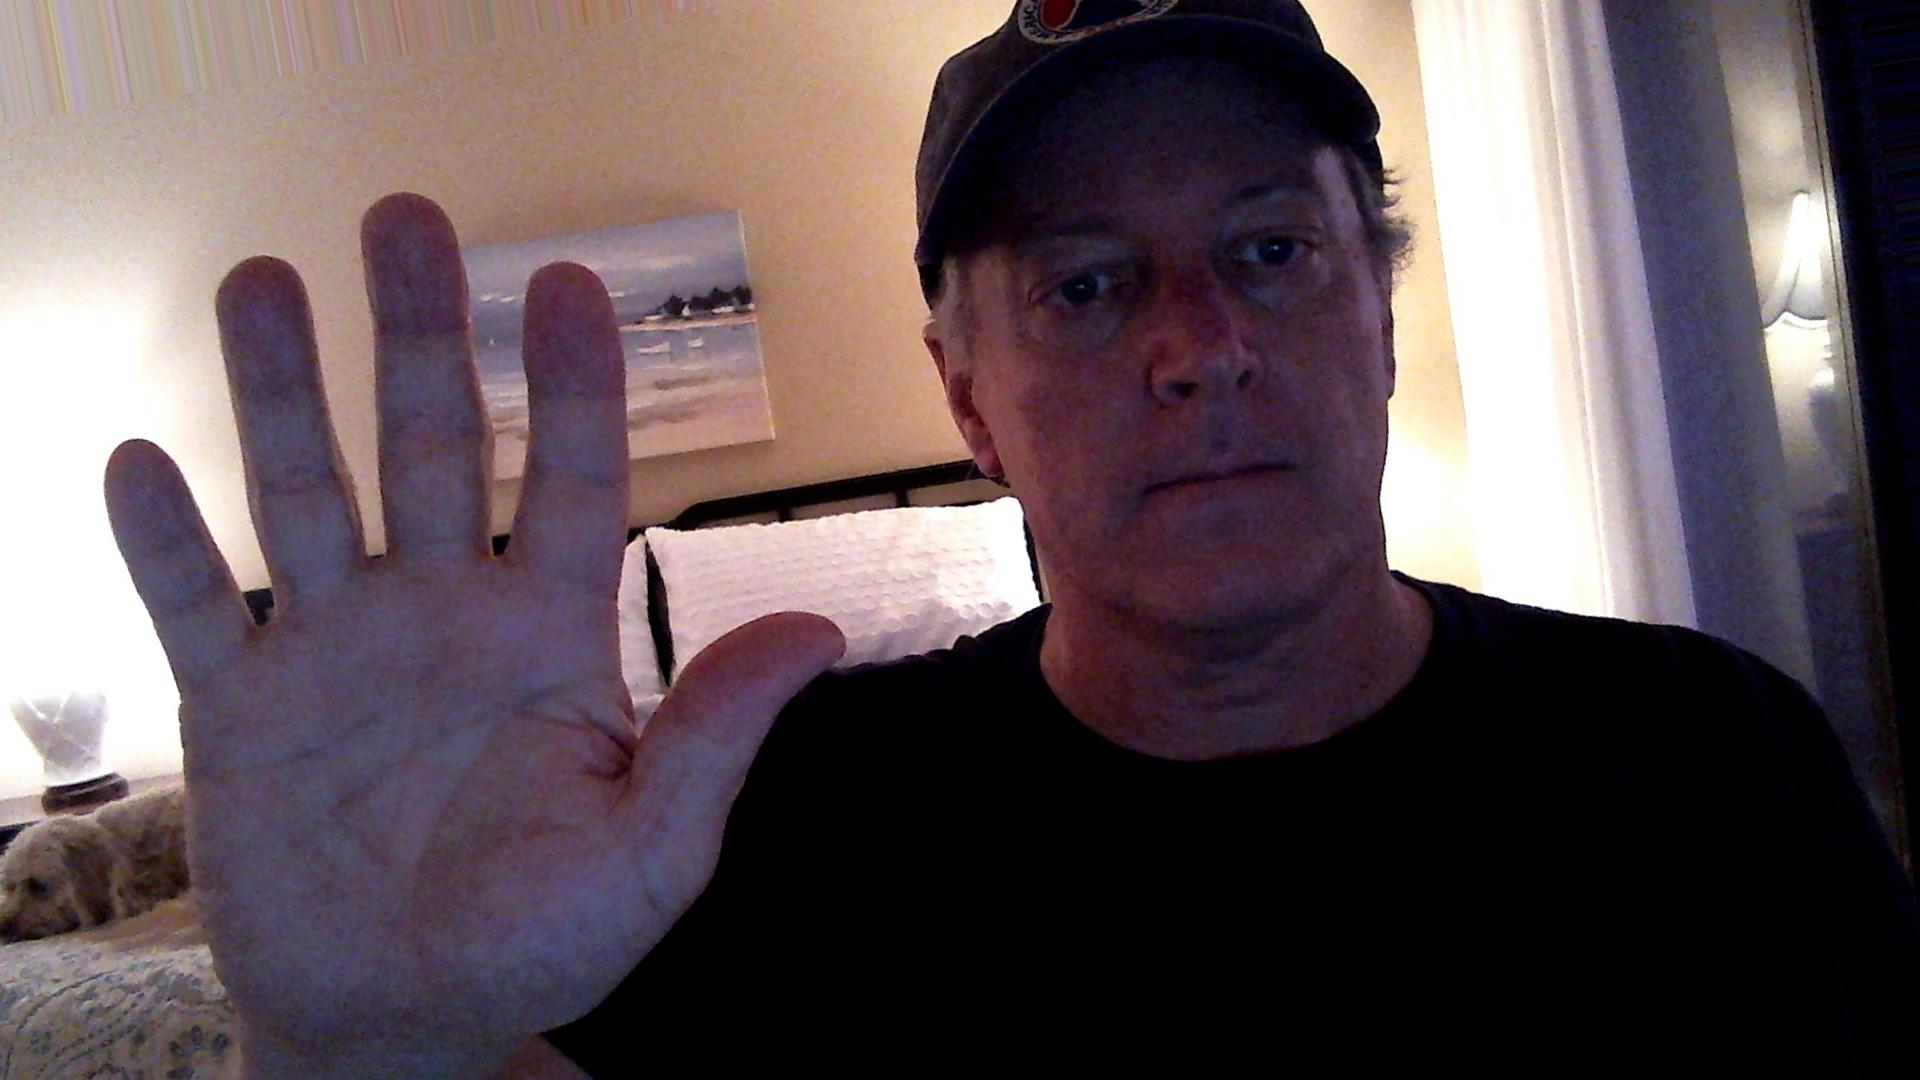Hello: (91, 175, 857, 1056)
